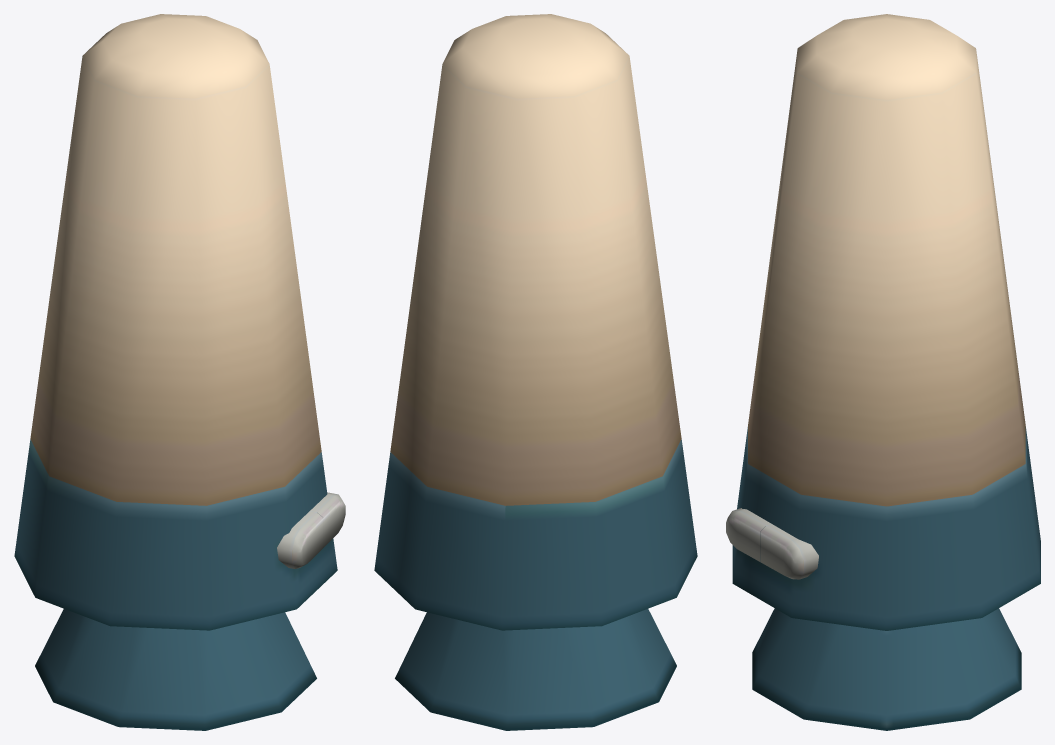
The model's file is int_oth_table_lamp.dae.
The picture shows the model from 3 angles, left to right: view 1: azimuth 30°, elevation 25°; view 2: azimuth 150°, elevation 25°; view 3: azimuth 270°, elevation 25°; orthographic projection.
Visible parts, largest first — view 1: int_oth_table_lamp; view 2: int_oth_table_lamp; view 3: int_oth_table_lamp.
Part boxes in pixels (box(x1,y1,x2,y2)): int_oth_table_lamp: box(14, 14, 345, 730); int_oth_table_lamp: box(374, 14, 697, 730); int_oth_table_lamp: box(726, 14, 1040, 730).
Bounding box in the file's own units: 13.3 × 28.83 × 12.92.
Materials: 2 (2 with a texture image).
